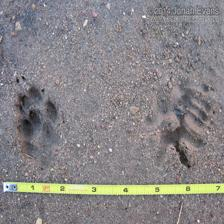fox: (8, 59, 70, 171)
